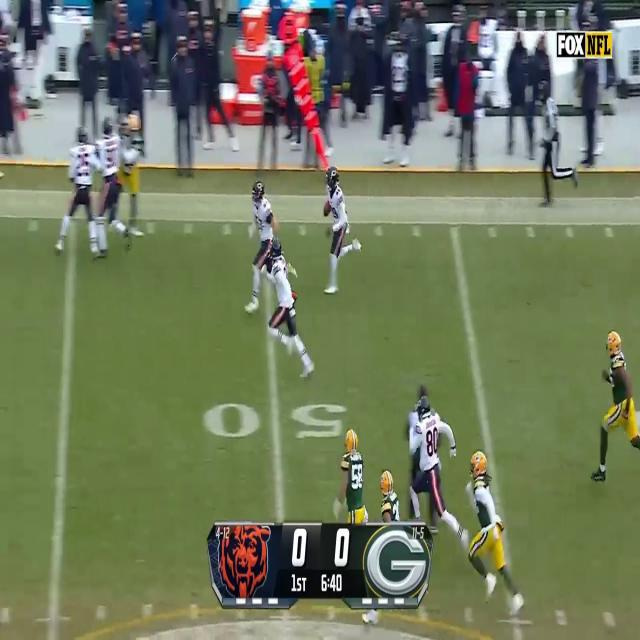Player: (466, 449, 508, 606), (599, 329, 639, 487), (412, 400, 461, 526), (267, 236, 301, 378), (62, 126, 99, 256), (322, 163, 350, 293), (248, 177, 273, 320), (99, 114, 123, 247), (336, 430, 366, 520), (121, 115, 143, 235), (380, 468, 402, 524)
Referee: (540, 80, 564, 210)
